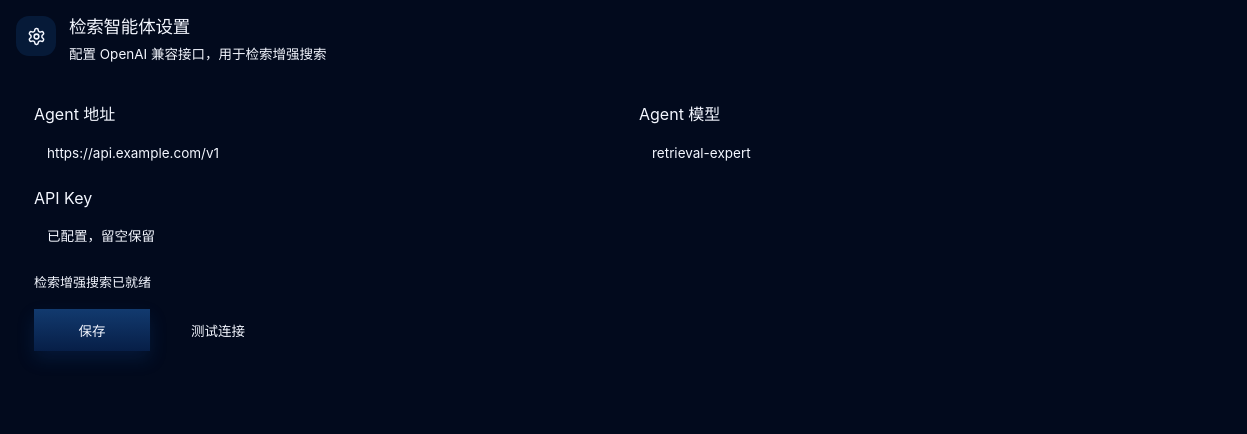
AgentSettingsCard › tests the current settings and omits an unchanged key
Type "https://api.updated.com/v1" into the field labelled "Agent 地址".
click(330, 153); type("https://api.updated.com/v1")  # box [34,132,625,174]
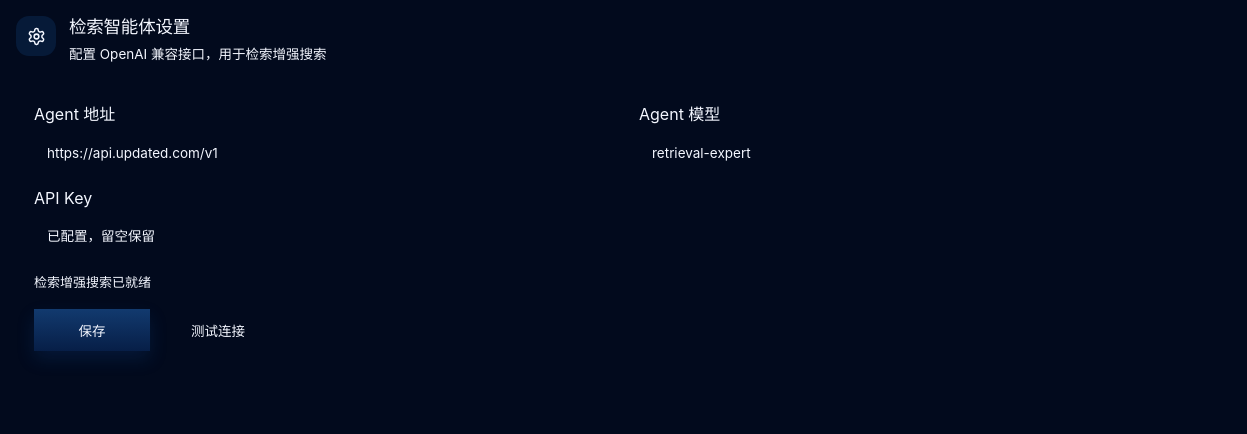
Click the button "测试连接".
click(218, 330)  # box [160,309,276,351]
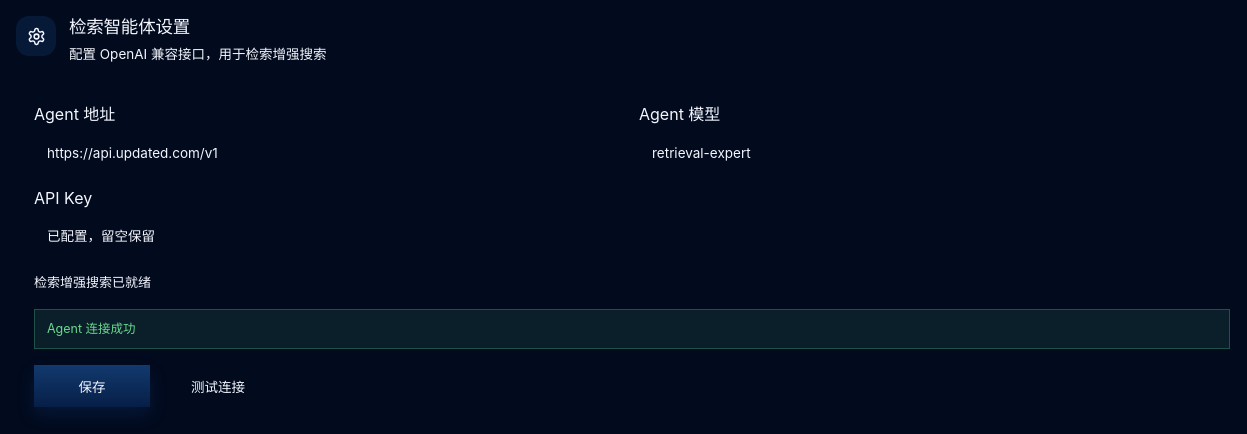
Expected: the text "Agent 连接成功" is shown, [34,309,1230,349]
